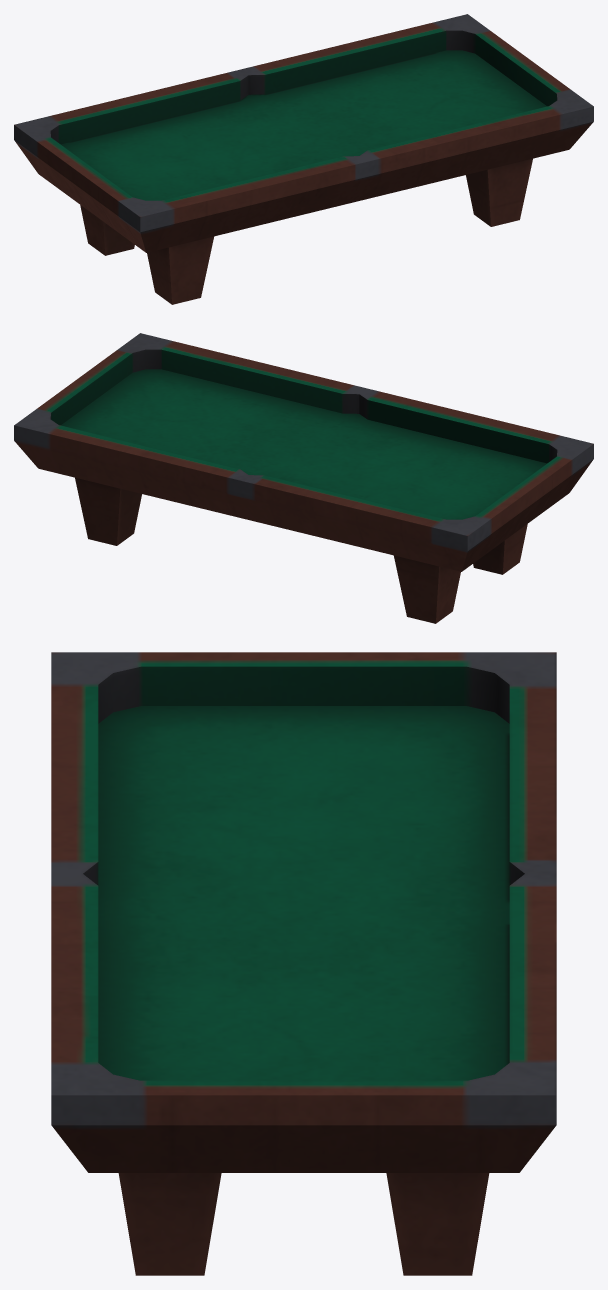
The model's file is Pool_Table.fbx.
The picture shows the model from 3 angles, top to bottom: view 1: azimuth 30°, elevation 25°; view 2: azimuth 150°, elevation 25°; view 3: azimuth 270°, elevation 25°; orthographic projection. The views are drawn at different scales.
Visible parts, largest first — view 1: Pool_Table; view 2: Pool_Table; view 3: Pool_Table.
Boxes of the visible parts, left/top/right/bottom form: Pool_Table: left=14, top=14, right=593, bottom=304; Pool_Table: left=14, top=333, right=593, bottom=623; Pool_Table: left=51, top=652, right=556, bottom=1275.
Bounding box in the file's own units: 195 × 47.7 × 94.05.
